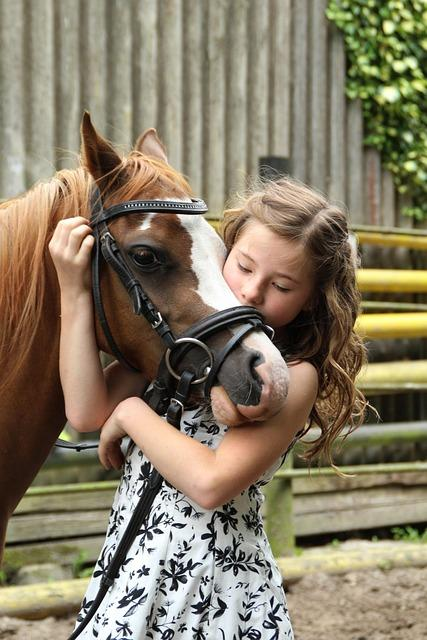Non_Gorille: (10, 89, 405, 640)
